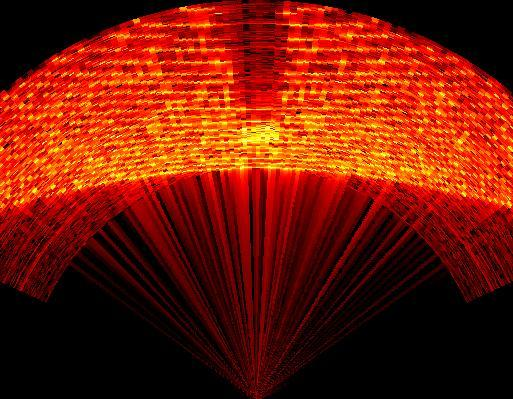box_crate: (208, 2, 284, 124)
